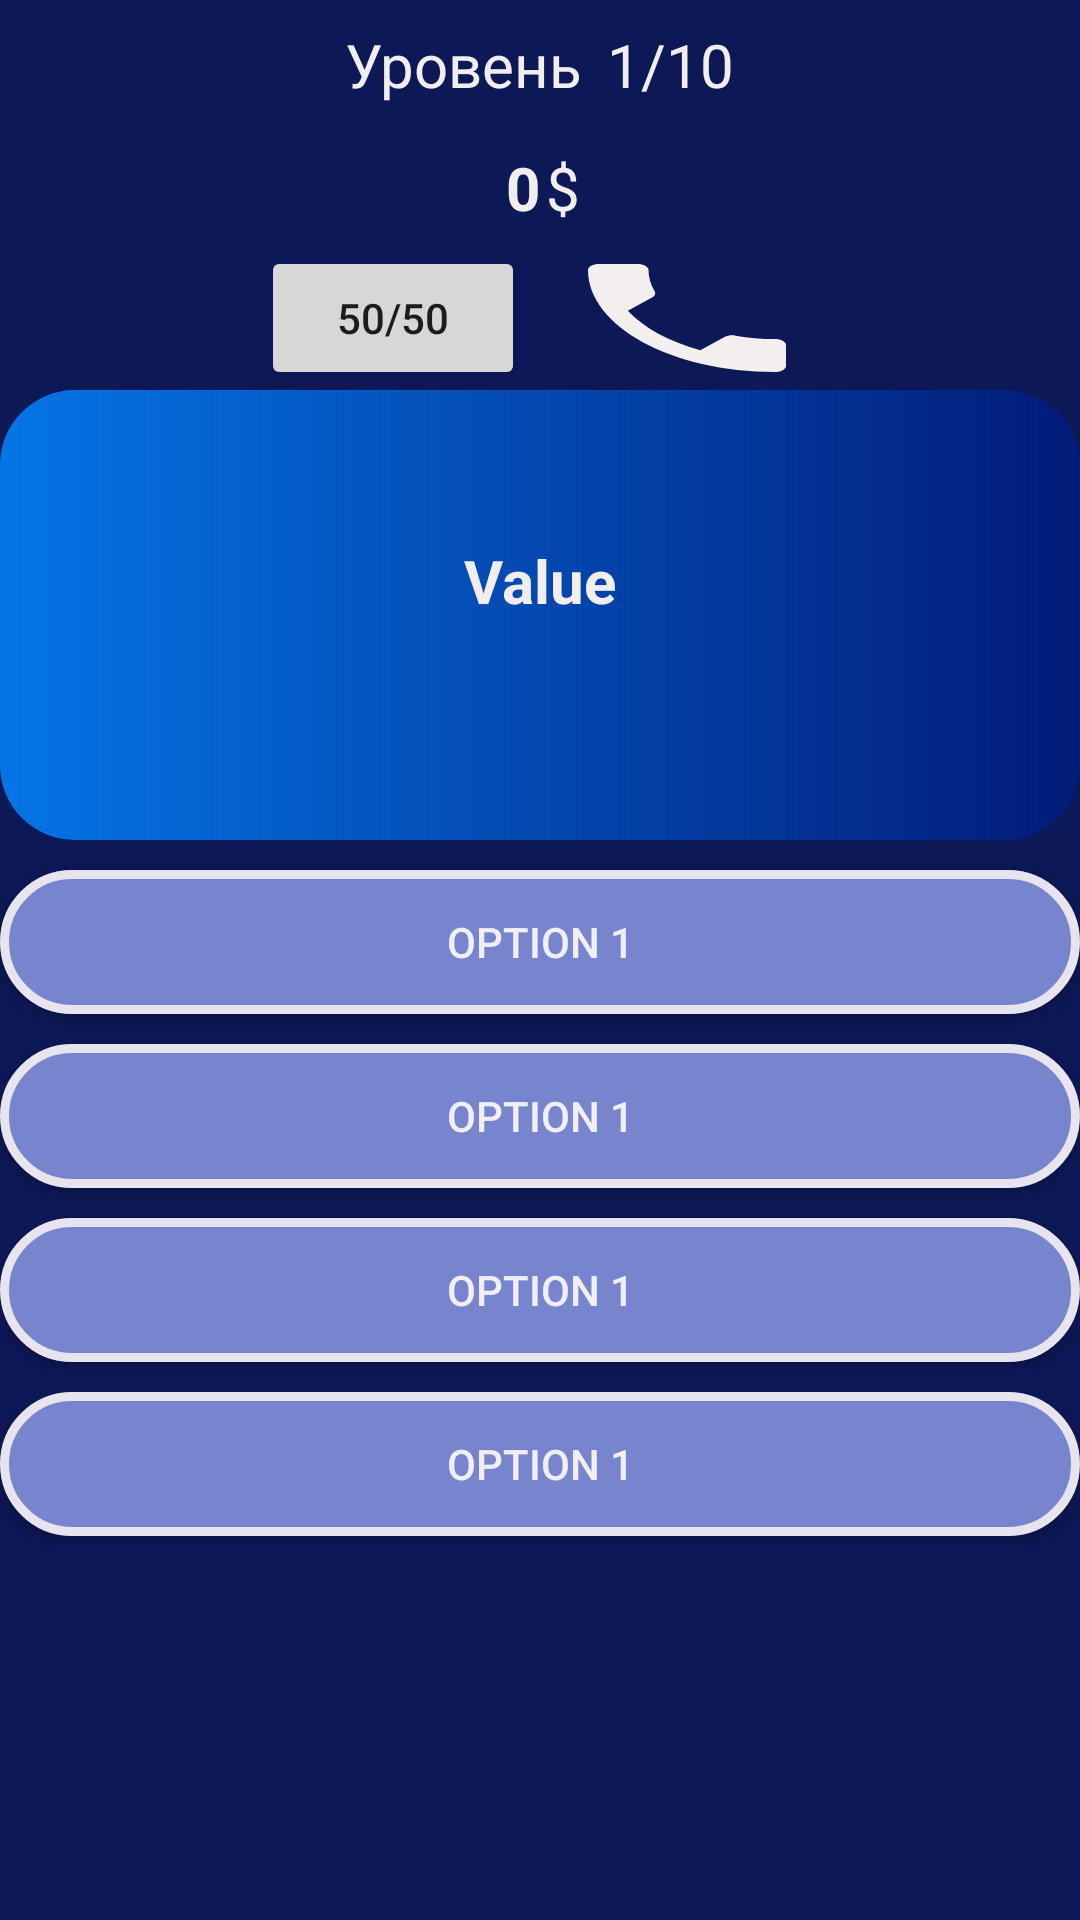

Icon bounding boxes for this 1080x1920 phone screenshot, format (x1, y1, x2, y2):
phone: (588, 264, 786, 372)
